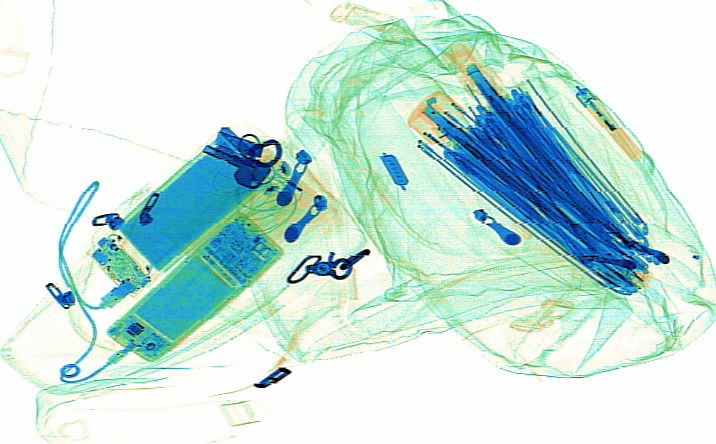lighter: (576, 86, 639, 157)
